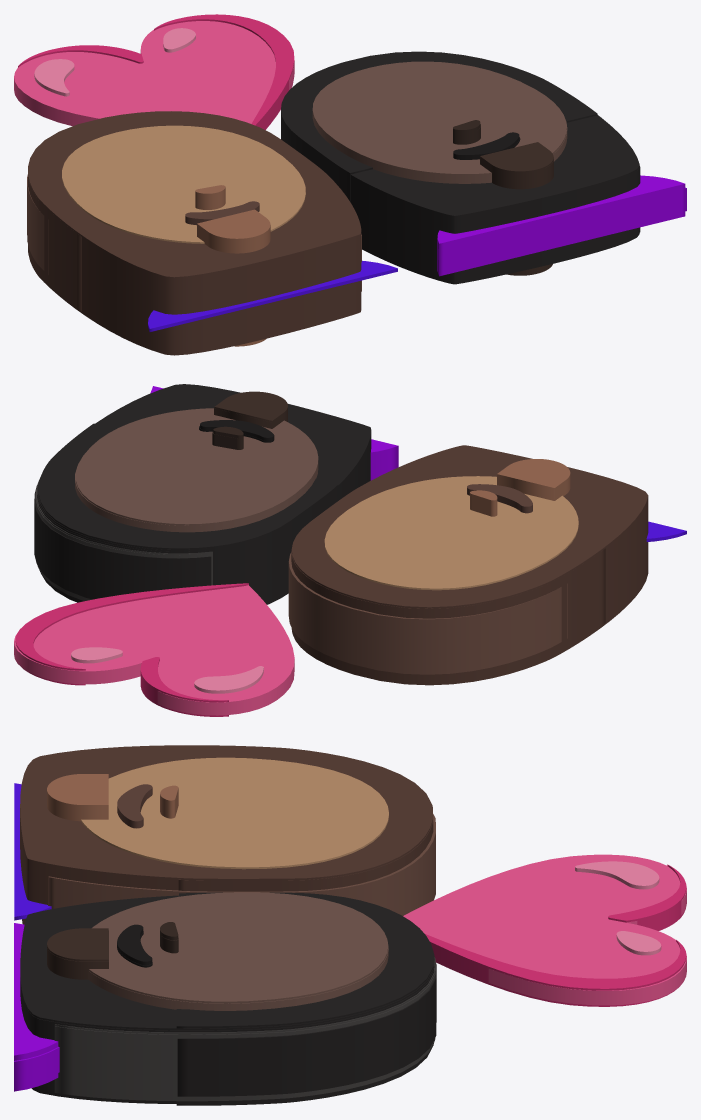
The model's file is emoji_u1f469_1f3fd_200d_2764_200d_1f469_1f3ff.glb.
3 views of the same model, one above another, from view 1: azimuth 30°, elevation 25°; view 2: azimuth 150°, elevation 25°; view 3: azimuth 270°, elevation 25° (orthographic). The views are drawn at different scales.
Visible parts, largest first — view 1: emoji_u1f469_1f3fd_200d_2764_200d_1f469_1f3ff; view 2: emoji_u1f469_1f3fd_200d_2764_200d_1f469_1f3ff; view 3: emoji_u1f469_1f3fd_200d_2764_200d_1f469_1f3ff.
Boxes of the visible parts, x1=… form: emoji_u1f469_1f3fd_200d_2764_200d_1f469_1f3ff: x1=14, y1=14, x2=686, y2=355; emoji_u1f469_1f3fd_200d_2764_200d_1f469_1f3ff: x1=14, y1=384, x2=686, y2=716; emoji_u1f469_1f3fd_200d_2764_200d_1f469_1f3ff: x1=14, y1=745, x2=686, y2=1105.
Size of the model in its own units: 0.0345 by 0.0072 by 0.0338.
